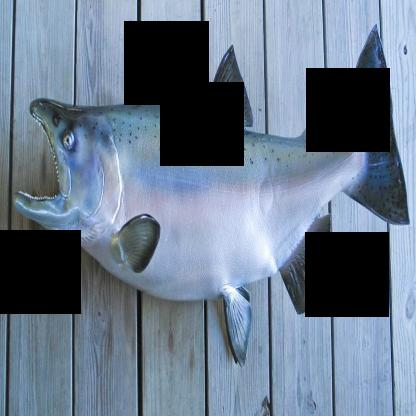fish: (16, 27, 408, 365)
